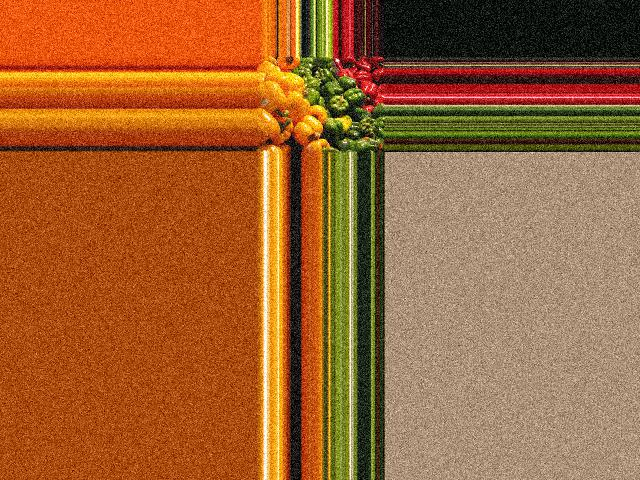bell_pepper: (361, 136, 384, 153)
